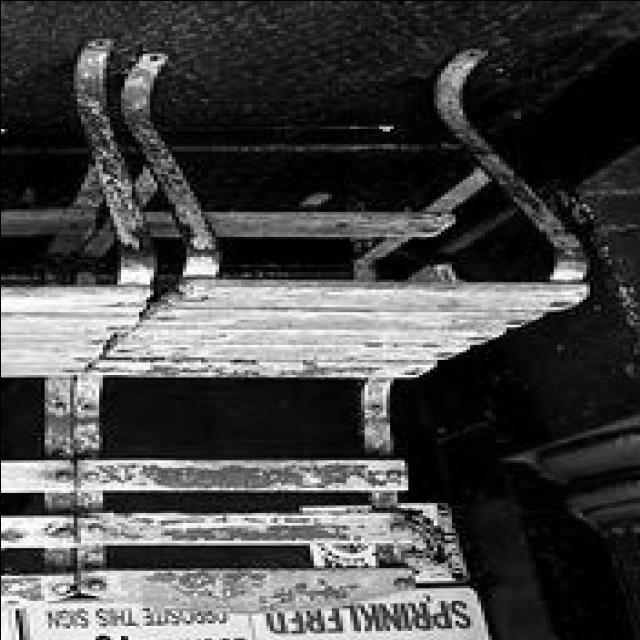chair: (73, 36, 589, 608)
